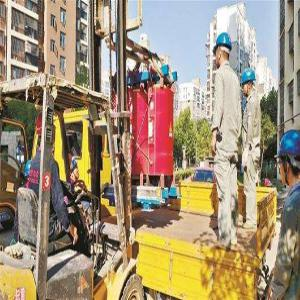blue: (277, 127, 300, 187), (212, 31, 233, 70), (240, 65, 258, 99), (68, 156, 81, 182)
